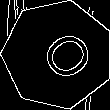O_SW: (24, 23, 92, 87)
